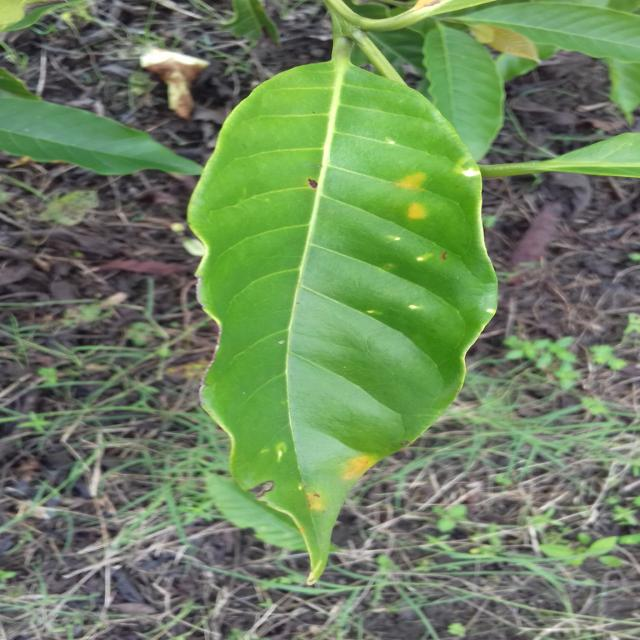Enfermedad-Roya: (185, 58, 501, 585)
